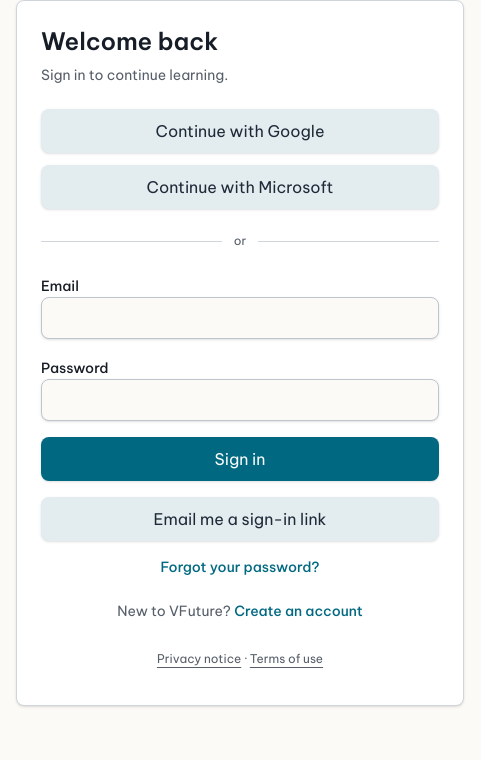
Test case: authentication and onboarding › shows a retryable provider error for a returned Microsoft failure without exposing details
The width and height of the screenshot is (481, 760).
Click the button "Continue with Microsoft" at (240, 187), box [41,165,439,209]
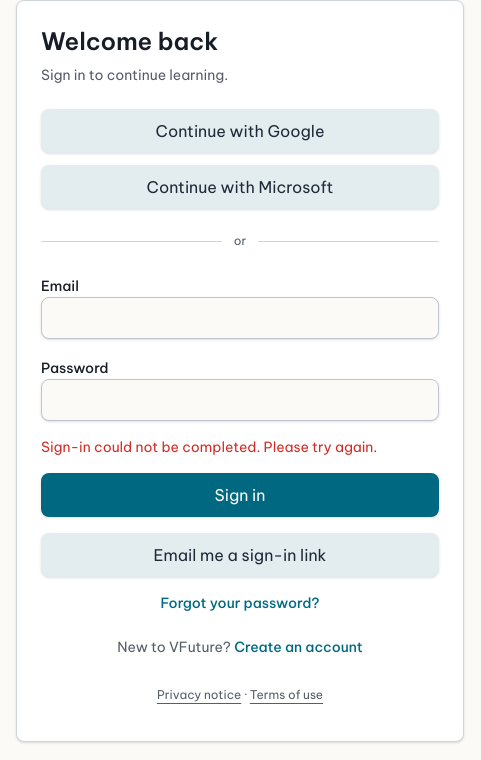
Expected: the button "Continue with Google" is enabled, [41,109,439,153]
Result: the message reads "Sign-in could not be completed. Please try again." at [41,438,377,456]
